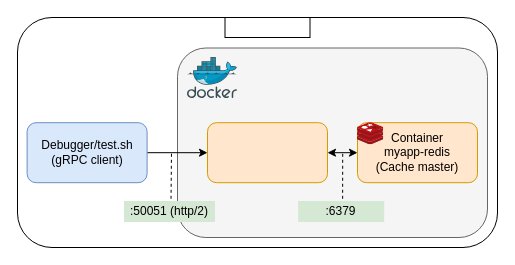
This 515x265 diagram has some shape labels left out. The centre of each missing label's shape, as x and y in pixels:
Container myapp-grpc (gRPC server): the point at 267,152
Your Machine: the point at 267,27
